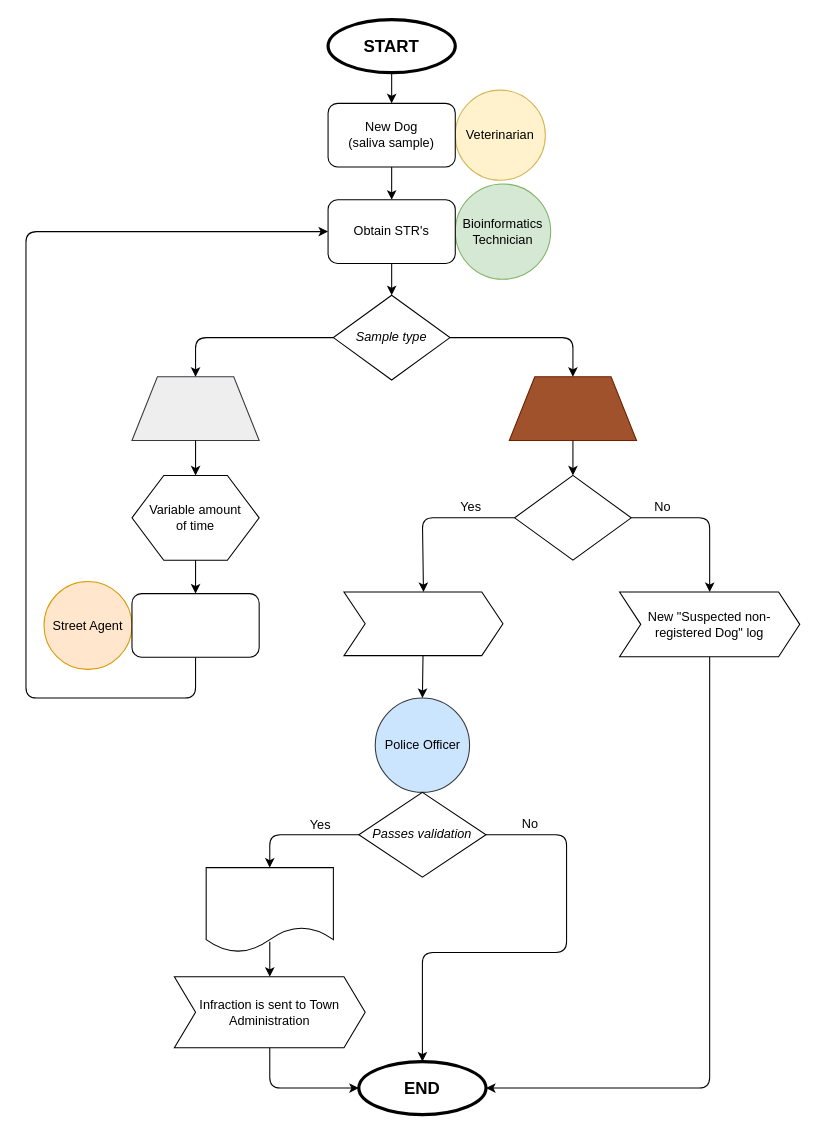
This 818x1134 diagram has some shape labels left out. Each missing label, with the box of its shape:
Droppings: (508, 376, 637, 440)
Infraction: (205, 867, 333, 952)
Infraction Proposal: (343, 591, 503, 656)
New Incident (droppings sample): (131, 593, 259, 657)
Saliva or Blood: (131, 376, 259, 440)
STR matching: (514, 474, 631, 560)
